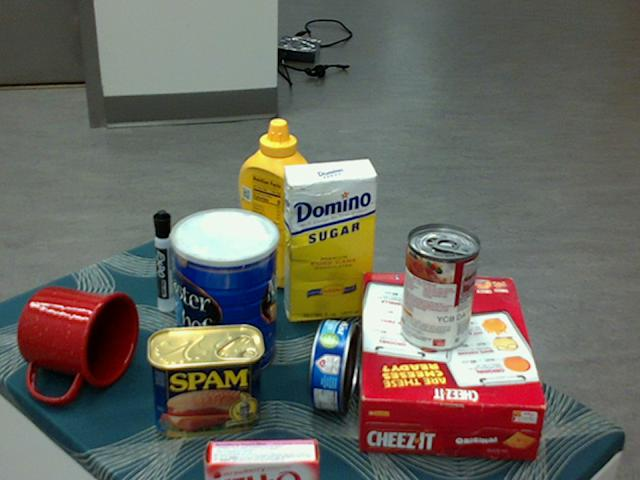cracker_box: (355, 274, 546, 455)
gelatin_box: (202, 439, 316, 479)
large_marker: (153, 209, 172, 311)
master_chef_can: (171, 209, 279, 381)
mug: (17, 285, 138, 402)
mustard_bottle: (237, 119, 316, 289)
potted_meat_can: (147, 324, 264, 436)
sugar_box: (283, 160, 377, 322)
tomato_soup_can: (398, 225, 479, 352)
tuna_fish_can: (308, 319, 359, 412)
